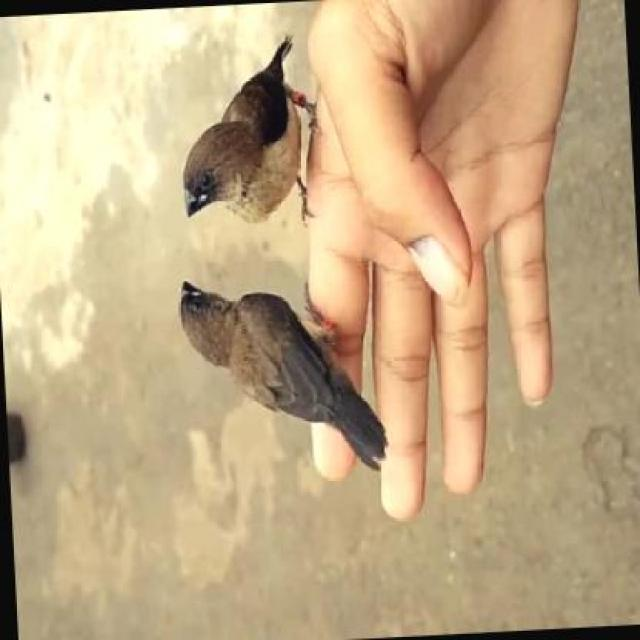Bird: (151, 259, 413, 489), (169, 43, 354, 275)
